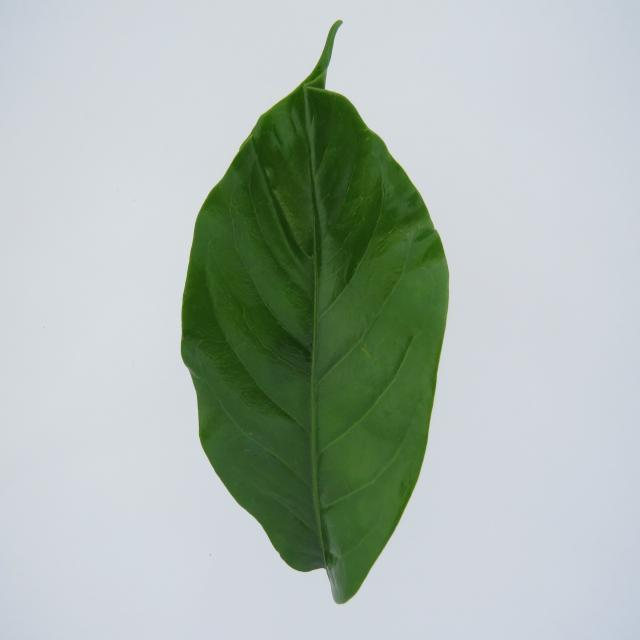DeficienciaNutricional-Calcio: (181, 22, 449, 603)
